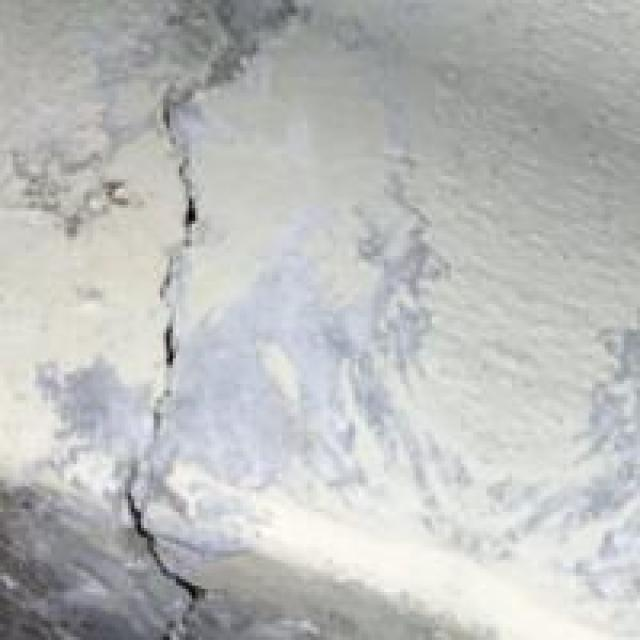Crack: (102, 22, 244, 637)
